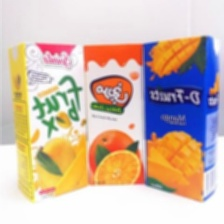carton: (4, 40, 93, 204), (142, 32, 224, 204), (81, 38, 148, 190)
